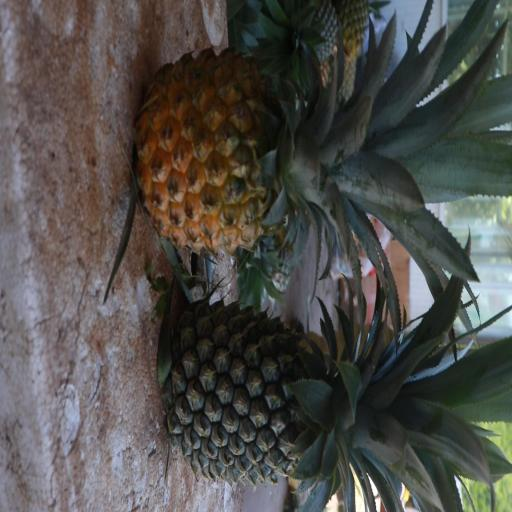Pineapple - v8 v1: (140, 58, 449, 256)
